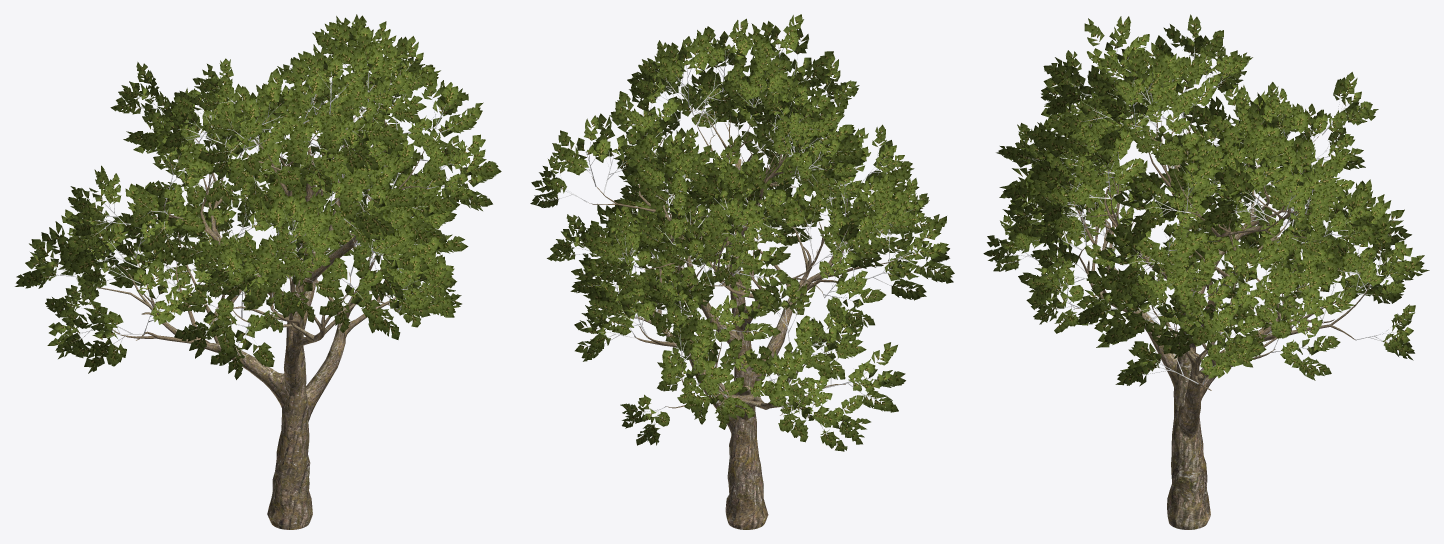
Rendered from tree2-transformed.glb.
3 renders of one model, left to right at view 1: azimuth 30°, elevation 25°; view 2: azimuth 150°, elevation 25°; view 3: azimuth 270°, elevation 25°, orthographic. The views are drawn at different scales.
Visible parts, largest first — view 1: Object_2, Object_3, Object_4; view 2: Object_2, Object_3, Object_4; view 3: Object_2, Object_3, Object_4.
Part boxes in pixels (<box>): Object_2: <box>15,14,501,379</box>; Object_3: <box>76,108,427,529</box>; Object_4: <box>41,36,470,365</box>; Object_2: <box>530,14,954,451</box>; Object_3: <box>588,103,900,529</box>; Object_4: <box>548,39,937,444</box>; Object_2: <box>983,14,1429,386</box>; Object_3: <box>1049,105,1370,529</box>; Object_4: <box>1005,41,1398,384</box>.
Bounding box in the file's own units: 112 × 144 × 117.
3 materials, 2 textured.
